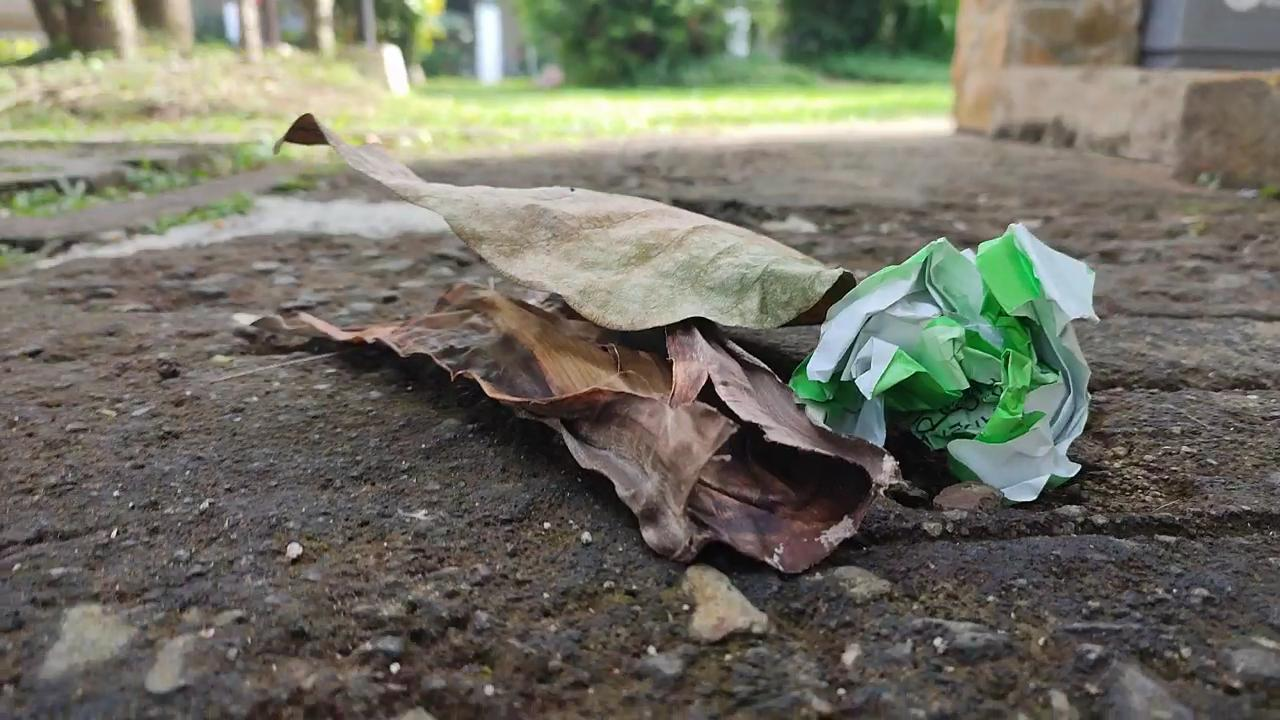Paper: (796, 214, 1114, 505)
